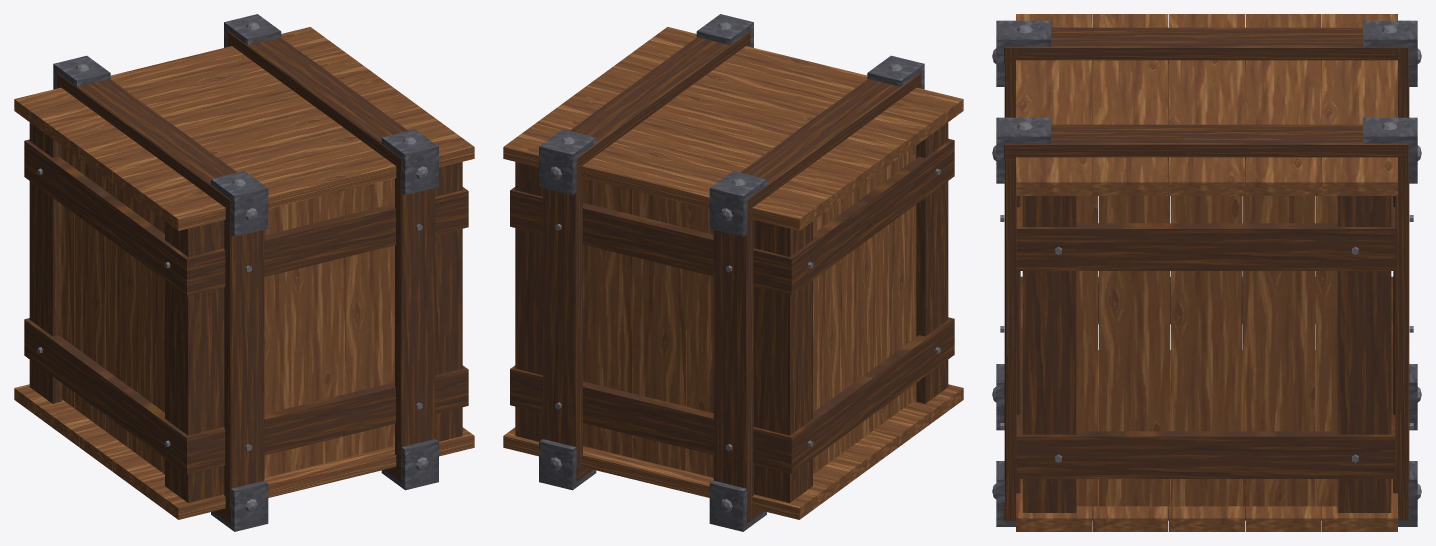
Rendered from Lab_Crate.glb.
3 renders of one model, left to right at view 1: azimuth 30°, elevation 25°; view 2: azimuth 150°, elevation 25°; view 3: azimuth 270°, elevation 25°, orthographic. The views are drawn at different scales.
Visible parts, largest first — view 1: Lab_Crate; view 2: Lab_Crate; view 3: Lab_Crate.
Boxes of the visible parts, x1,y1,x2,y2 form: Lab_Crate: (14, 14, 474, 531); Lab_Crate: (503, 14, 963, 531); Lab_Crate: (992, 14, 1421, 531).
Bounding box in the file's own units: 0.8423 × 0.9325 × 0.9088.
Materials: 2 (2 with a texture image).
